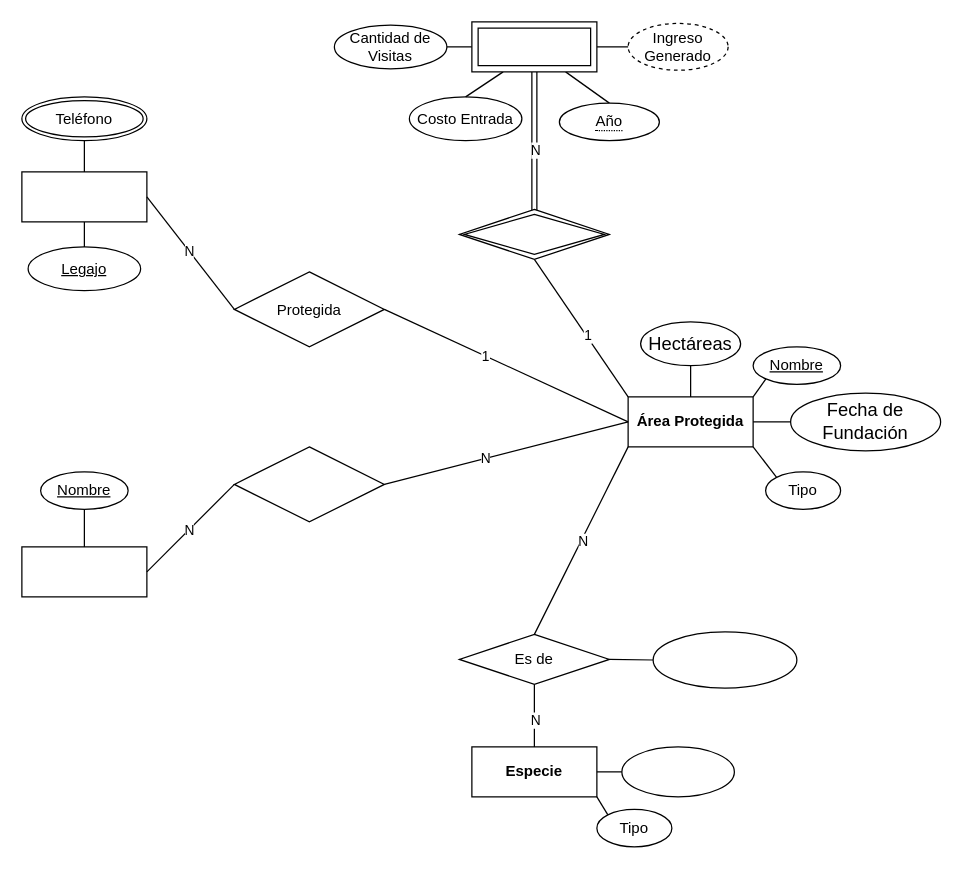
The diagram is 963 pixels wide and 869 high, and some of its shapes have lost their labels. Here are the shapes that lost their labels. From the top down, the centre of each, then its label:
At point 534,46: "Visitas Anuales".
At point 84,196: "Guardaparque".
At point 533,233: "Visita".
At point 308,484: "Pertenece".
At point 84,571: "Provincia".
At point 724,659: "Nro. Estimado de Ejemplares".
At point 677,771: "Nombre Cientifico".
